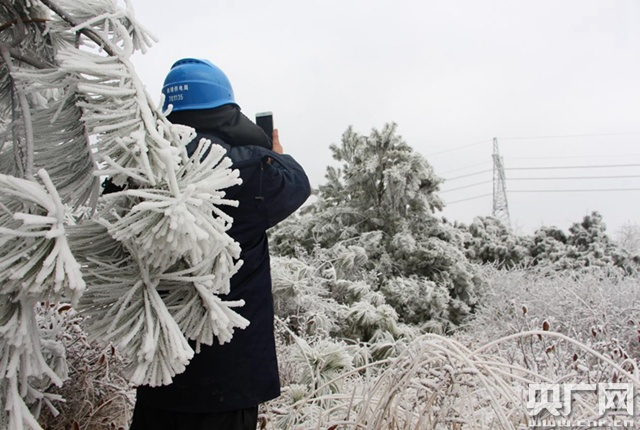blue: (156, 53, 242, 134)
